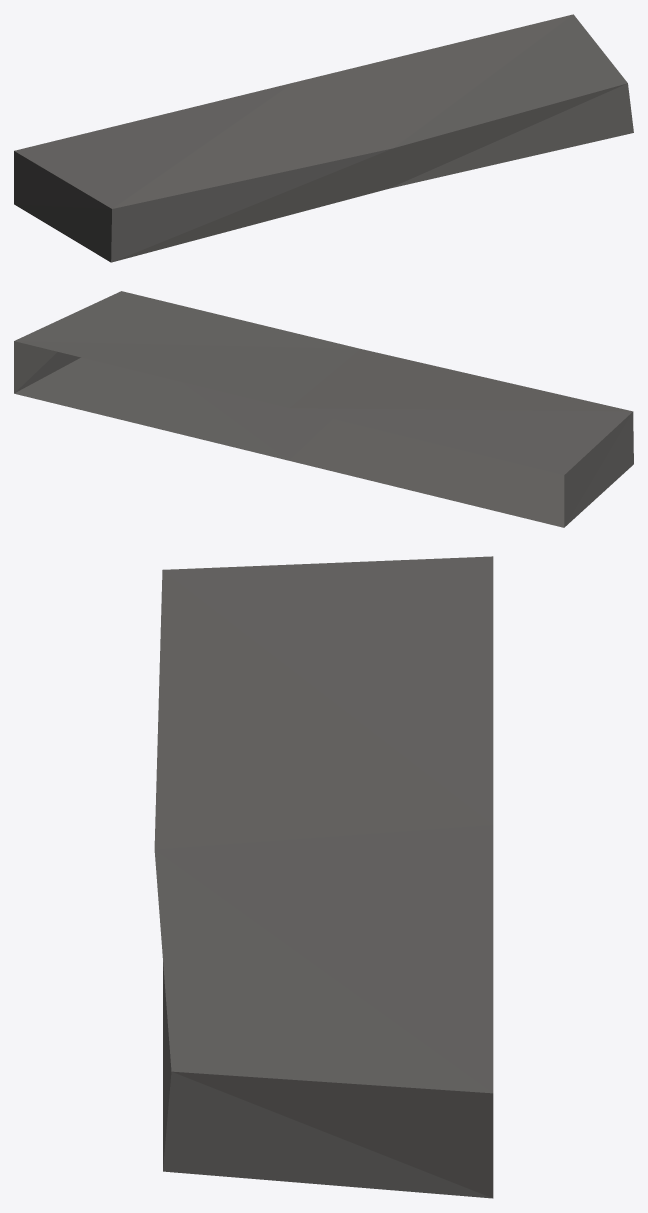
File: Veranda_A_01.FBX
3 renders of one model, top to bottom at view 1: azimuth 30°, elevation 25°; view 2: azimuth 150°, elevation 25°; view 3: azimuth 270°, elevation 25°, orthographic. The views are drawn at different scales.
Visible parts, largest first — view 1: Veranda_A_01; view 2: Veranda_A_01; view 3: Veranda_A_01.
Boxes of the visible parts, <box> form: Veranda_A_01: <box>14,14,633,262</box>; Veranda_A_01: <box>14,291,633,527</box>; Veranda_A_01: <box>154,556,493,1198</box>.
Size of the model in its own units: 1.73 by 0.158 by 0.4613.
